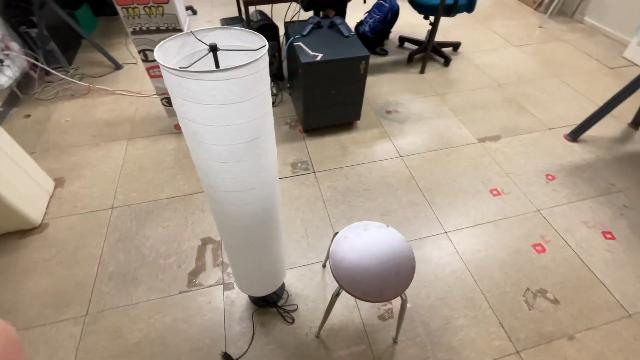Lamp: (148, 22, 292, 312)
Stool: (312, 219, 418, 349)
